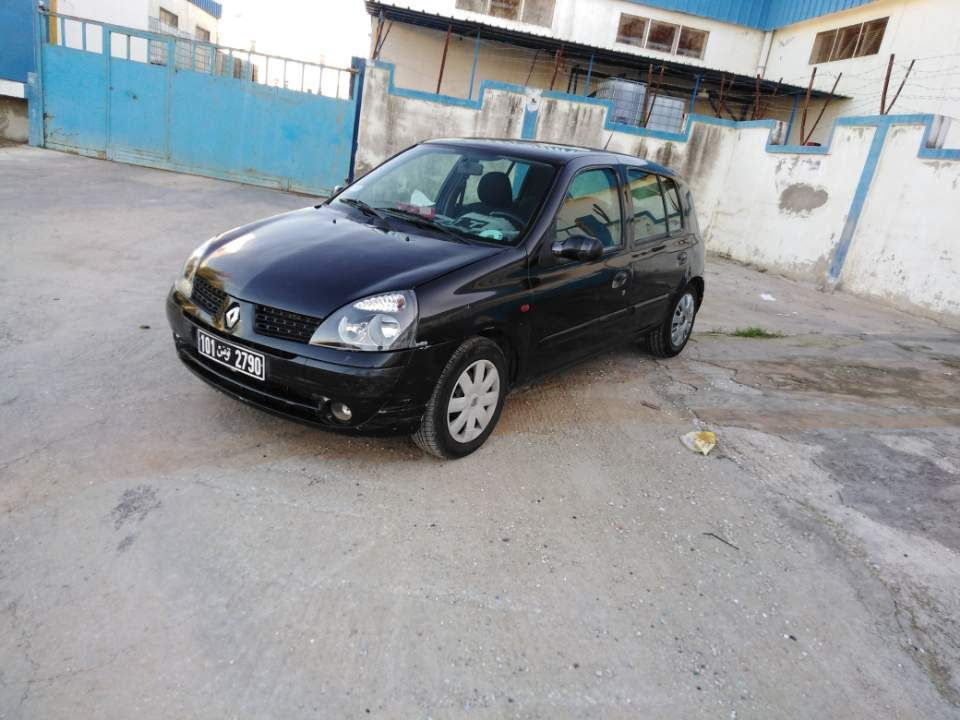LP: (196, 329, 265, 381)
